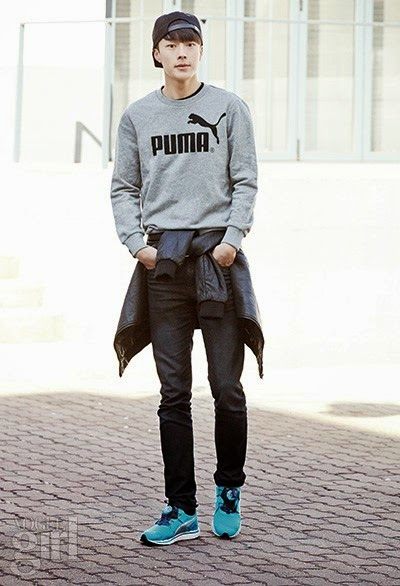people: (111, 12, 257, 543)
